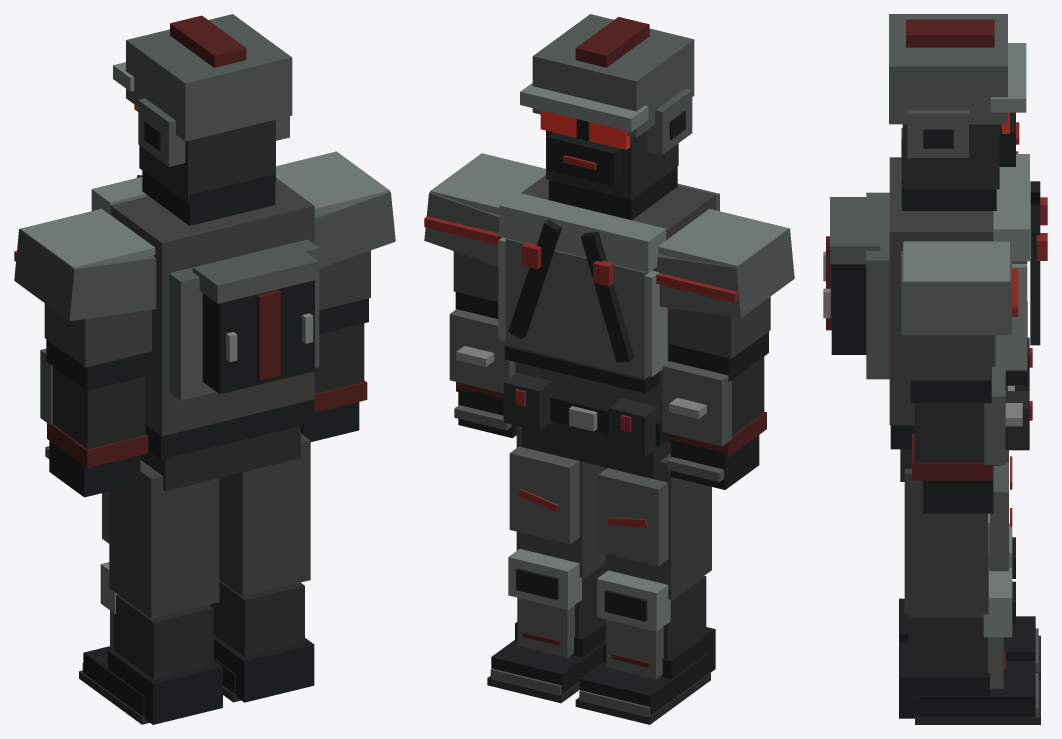
Rendered from shredder.glb.
The picture shows the model from 3 angles, left to right: view 1: azimuth 30°, elevation 25°; view 2: azimuth 150°, elevation 25°; view 3: azimuth 270°, elevation 25°; orthographic projection. The views are drawn at different scales.
Parts seen in each view (by area): view 1: Merged_material (×15), Narrow combat torso, Trouser L, Trouser R, Face shell, Forearm sleeve L, Pauldron top ridge L, Upper sleeve L, Pauldron top ridge R, Forearm sleeve R, Helmet crest, Upper sleeve R (+3 smaller); view 2: Merged_material (×18), Trouser L, Narrow combat torso, Pauldron top ridge L, Upper sleeve L, Pauldron top ridge R, Trouser R, Face shell, Helmet front brow, Knee pad R, Knee pad L, Helmet crest (+6 smaller); view 3: Merged_material (×14), Trouser R, Narrow combat torso, Pauldron top ridge R, Face shell, Forearm sleeve R, Upper sleeve R, Helmet crest, Knee pad R, Helmet front brow, Wrist cuff R, Forearm strike rail R (+1 smaller).
Boxes of the visible parts, left/top/right/bottom form: Merged_material (×15): left=14, top=14, right=395, bottom=724; Narrow combat torso: left=110, top=178, right=314, bottom=436; Trouser L: left=109, top=460, right=219, bottom=618; Trouser R: left=219, top=433, right=310, bottom=596; Face shell: left=139, top=119, right=275, bottom=203; Forearm sleeve L: left=52, top=366, right=145, bottom=449; Pauldron top ridge L: left=20, top=209, right=155, bottom=268; Upper sleeve L: left=44, top=303, right=151, bottom=367; Pauldron top ridge R: left=276, top=151, right=389, bottom=215; Forearm sleeve R: left=314, top=323, right=364, bottom=393; Helmet crest: left=170, top=15, right=246, bottom=67; Upper sleeve R: left=319, top=250, right=370, bottom=310; Merged_material (×18): left=424, top=14, right=794, bottom=724; Trouser L: left=605, top=453, right=711, bottom=599; Narrow combat torso: left=515, top=175, right=715, bottom=420; Pauldron top ridge L: left=658, top=209, right=788, bottom=266; Upper sleeve L: left=667, top=296, right=770, bottom=358; Pauldron top ridge R: left=430, top=153, right=545, bottom=214; Trouser R: left=516, top=426, right=605, bottom=578; Face shell: left=546, top=130, right=678, bottom=199; Helmet front brow: left=520, top=83, right=648, bottom=131; Knee pad R: left=508, top=549, right=581, bottom=609; Knee pad L: left=597, top=570, right=670, bottom=631; Helmet crest: left=575, top=16, right=649, bottom=67; Merged_material (×14): left=823, top=14, right=1047, bottom=724; Trouser R: left=904, top=468, right=988, bottom=614; Narrow combat torso: left=889, top=157, right=995, bottom=425; Pauldron top ridge R: left=903, top=241, right=1009, bottom=282; Face shell: left=902, top=124, right=999, bottom=189; Forearm sleeve R: left=914, top=403, right=984, bottom=462; Upper sleeve R: left=910, top=335, right=991, bottom=380; Helmet crest: left=906, top=19, right=994, bottom=47; Knee pad R: left=983, top=568, right=1012, bottom=637; Helmet front brow: left=991, top=43, right=1026, bottom=112; Wrist cuff R: left=912, top=433, right=992, bottom=480; Forearm strike rail R: left=1005, top=403, right=1022, bottom=426.
Bounding box in the file's own units: 1.02 × 1.96 × 0.6075.
